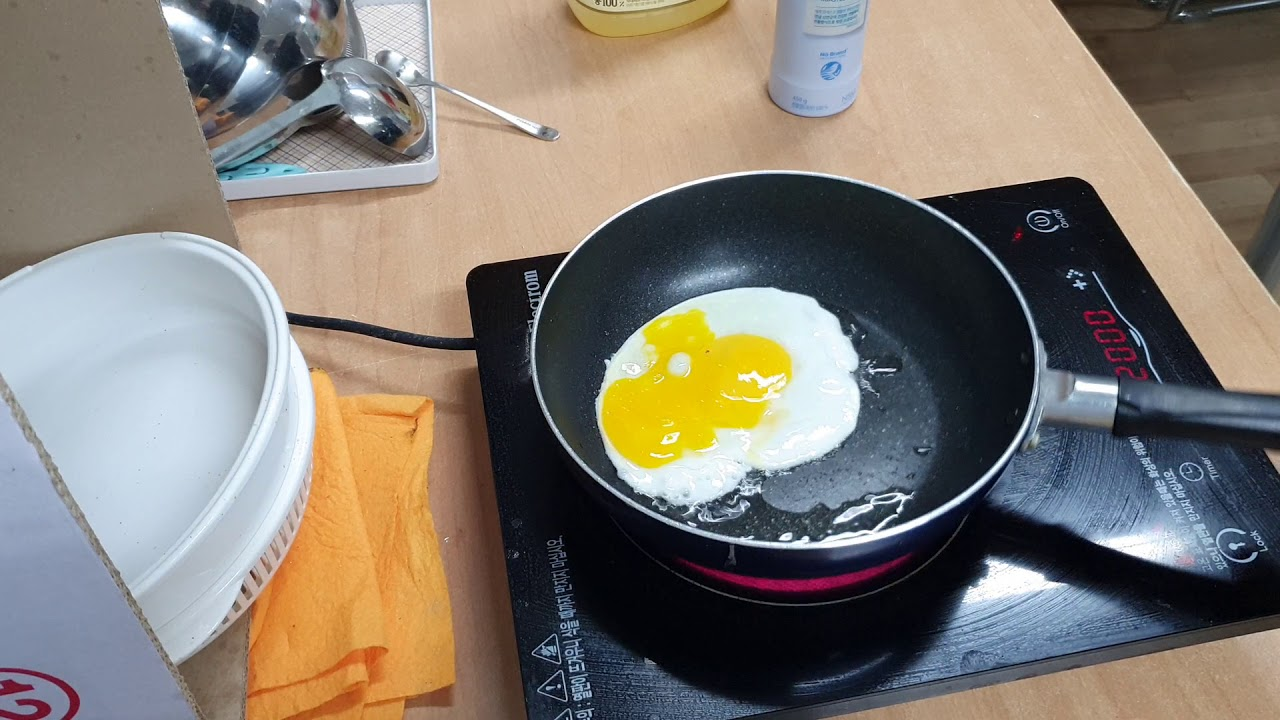gyelanhulai: (583, 279, 872, 507)
